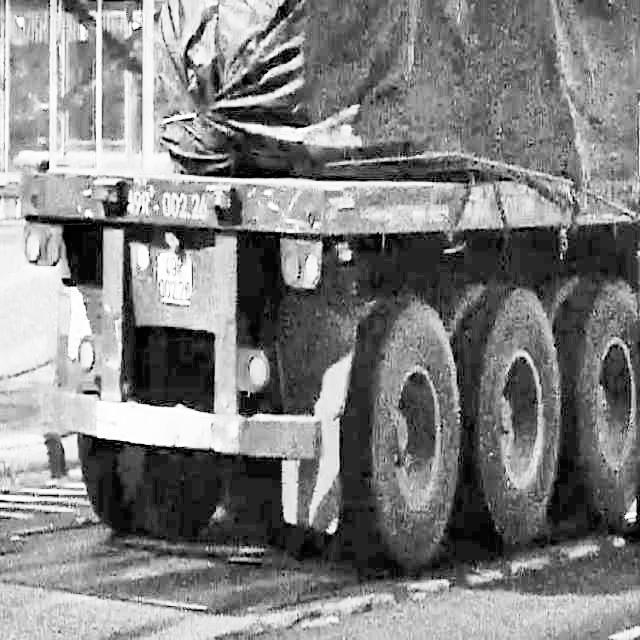Truck: (13, 0, 639, 573)
